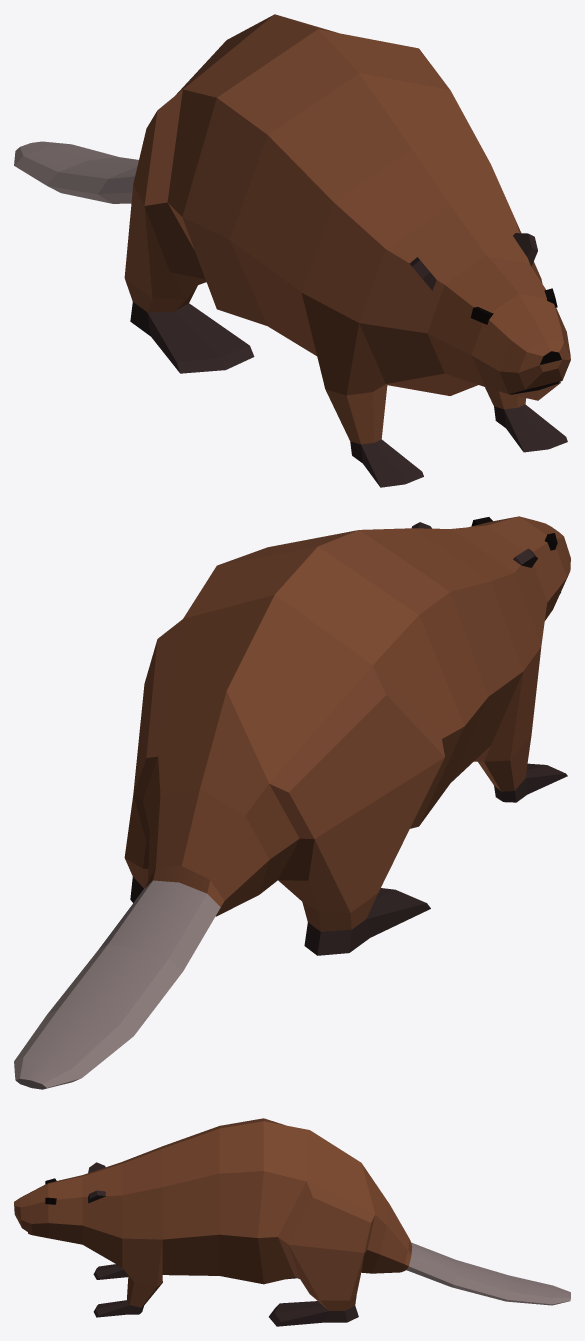
The model's file is Mesh_Beaver.obj.
3 renders of one model, top to bottom at view 1: azimuth 30°, elevation 25°; view 2: azimuth 150°, elevation 25°; view 3: azimuth 270°, elevation 25°, orthographic. The views are drawn at different scales.
Parts seen in each view (by area): view 1: Geo_Beaver; view 2: Geo_Beaver; view 3: Geo_Beaver.
Boxes of the visible parts, box(x1,y1,x2,y2) form: Geo_Beaver: box(14, 14, 570, 487); Geo_Beaver: box(14, 516, 570, 1089); Geo_Beaver: box(14, 1118, 570, 1326).
Bounding box in the file's own units: 37.23 × 39.7 × 112.
Materials: 1 (1 with a texture image).
